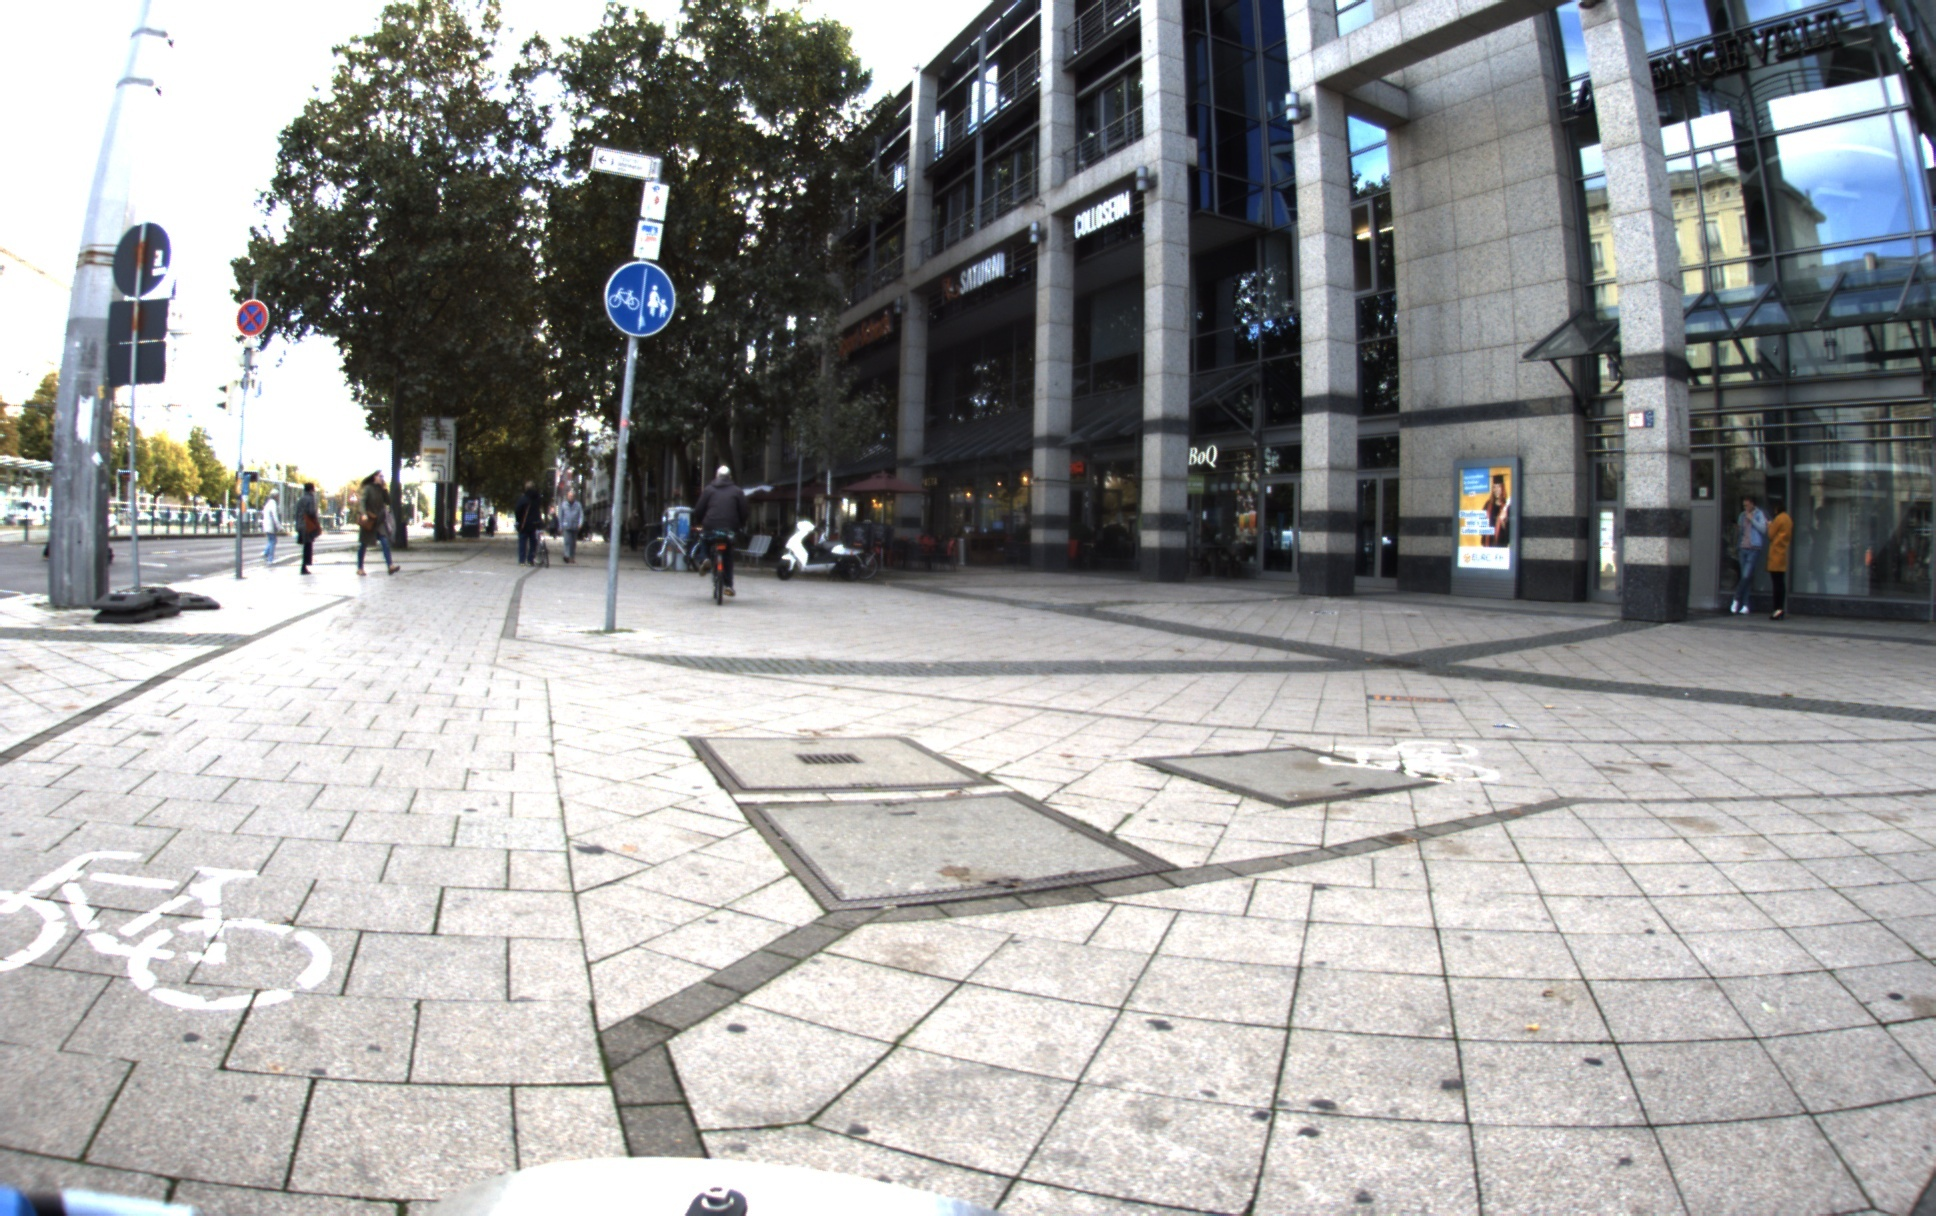adult without baby buggy or mobility support: (354, 468, 403, 576), (1728, 498, 1769, 615), (1768, 499, 1794, 622), (296, 481, 324, 576), (555, 487, 585, 564), (260, 487, 288, 564)
bicycle without cyclist: (642, 513, 716, 574)
cyclist with bicycle: (687, 463, 755, 606)
motorcycle without motorcyclist: (771, 516, 878, 582)
person with mobility support: (513, 478, 551, 568)
trafficmarking_Radweg Markierung: (0, 843, 335, 1016), (1316, 736, 1506, 787)
trafficsign_Getrennter Rad- und Gehweg, Radweg links: (602, 258, 677, 338)
trafficsign_miscellaneous traffic signs: (237, 299, 269, 336)
